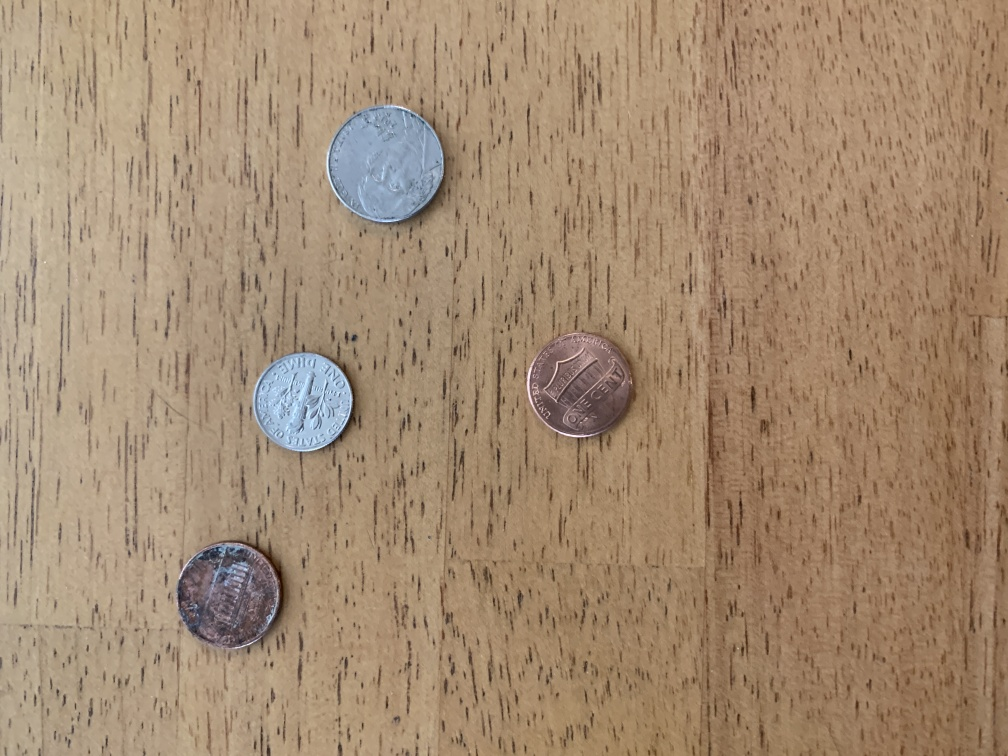dime: (250, 349, 359, 456)
nickel: (323, 101, 449, 234)
penny: (525, 328, 640, 442), (173, 538, 286, 648)
